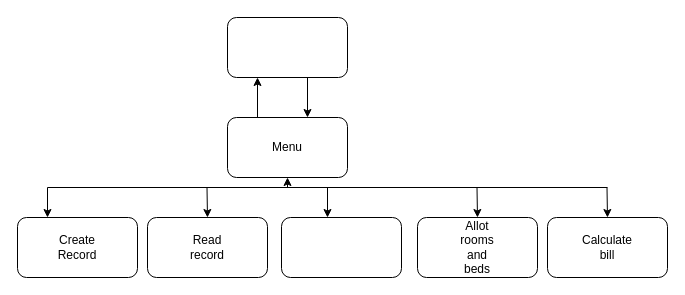
The diagram is 685 pixels wide and 295 high, and some of its shapes have lost their labels. Each missing label, with the centre of its shape:
"Display record" belongs at pixel 341 247.
"Terminal" belongs at pixel 287 47.
